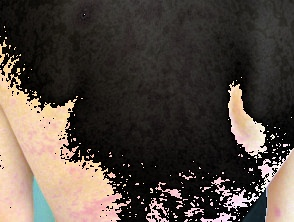SJS-TEN: (0, 0, 294, 222), (0, 151, 23, 222), (262, 193, 294, 222)
